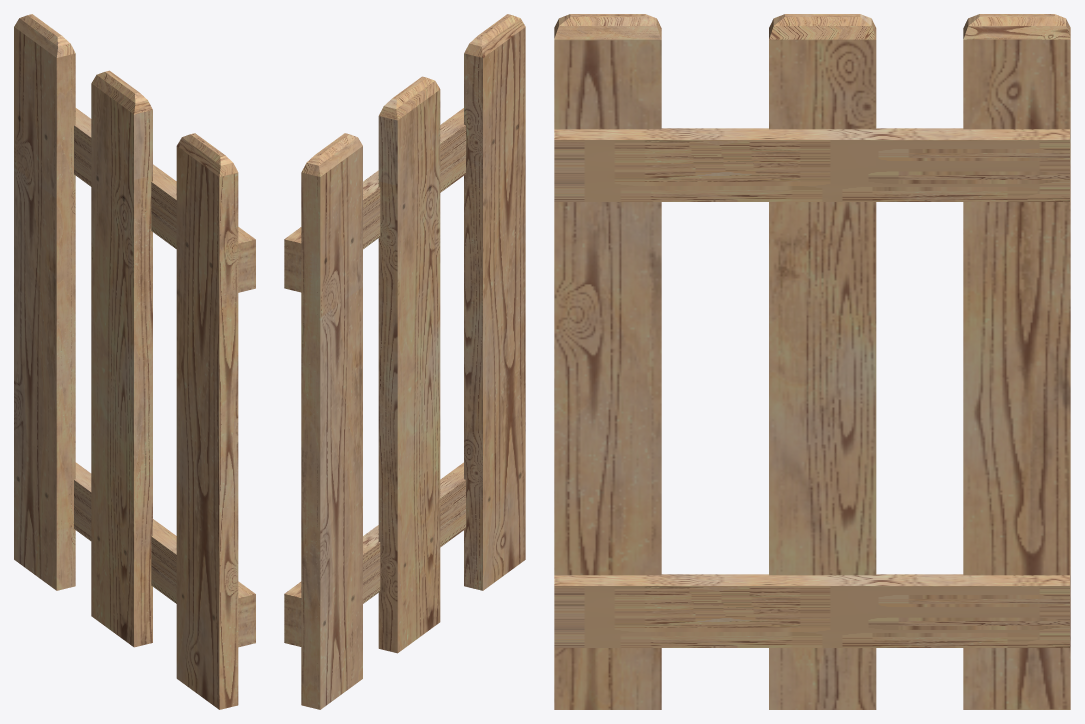
Rendered from FenceWithoutDoorPilar.fbx.
3 renders of one model, left to right at view 1: azimuth 30°, elevation 25°; view 2: azimuth 150°, elevation 25°; view 3: azimuth 270°, elevation 25°, orthographic. The views are drawn at different scales.
Parts seen in each view (by area): view 1: Fence_A.001; view 2: Fence_A.001; view 3: Fence_A.001.
Boxes of the visible parts, left/top/right/bottom form: Fence_A.001: left=14, top=14, right=255, bottom=709; Fence_A.001: left=284, top=14, right=525, bottom=709; Fence_A.001: left=554, top=14, right=1070, bottom=709.
Bounding box in the file's own units: 11.47 × 164 × 112.
1 material, 1 textured.
